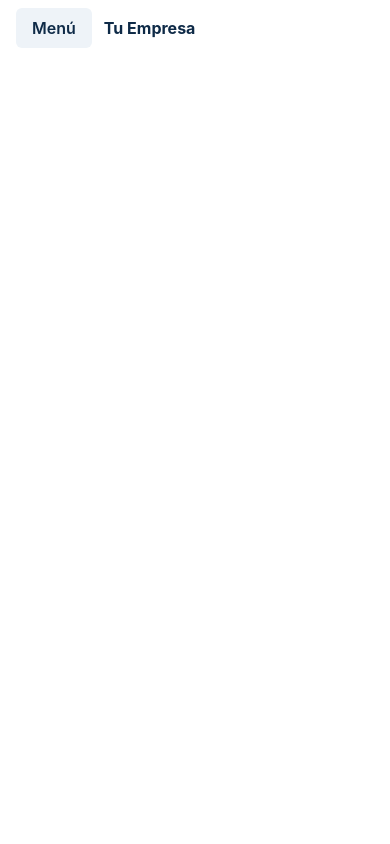
Test case: el botón Menú abre la barra en el celular
Click the button "Menú".
click(54, 28)  # box top-left (16, 8), bottom-right (92, 48)
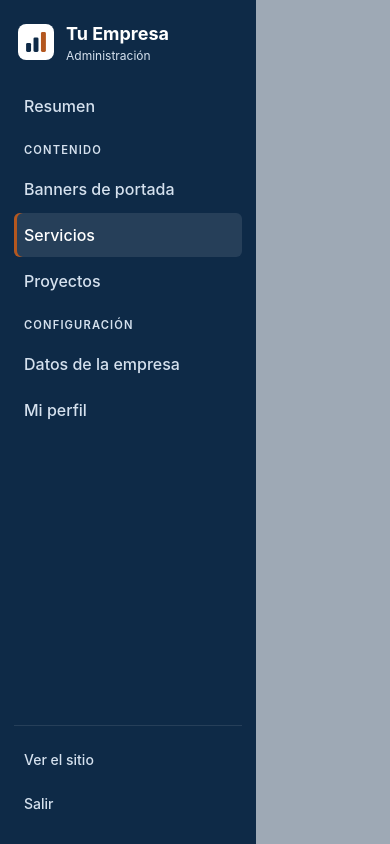
expect the button "Menú" is expanded: met, box top-left (16, 8), bottom-right (92, 48)
